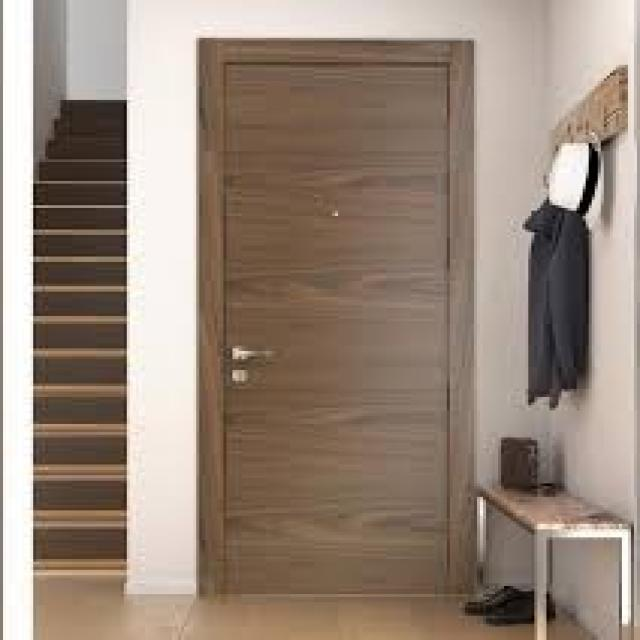door: (196, 36, 474, 601)
